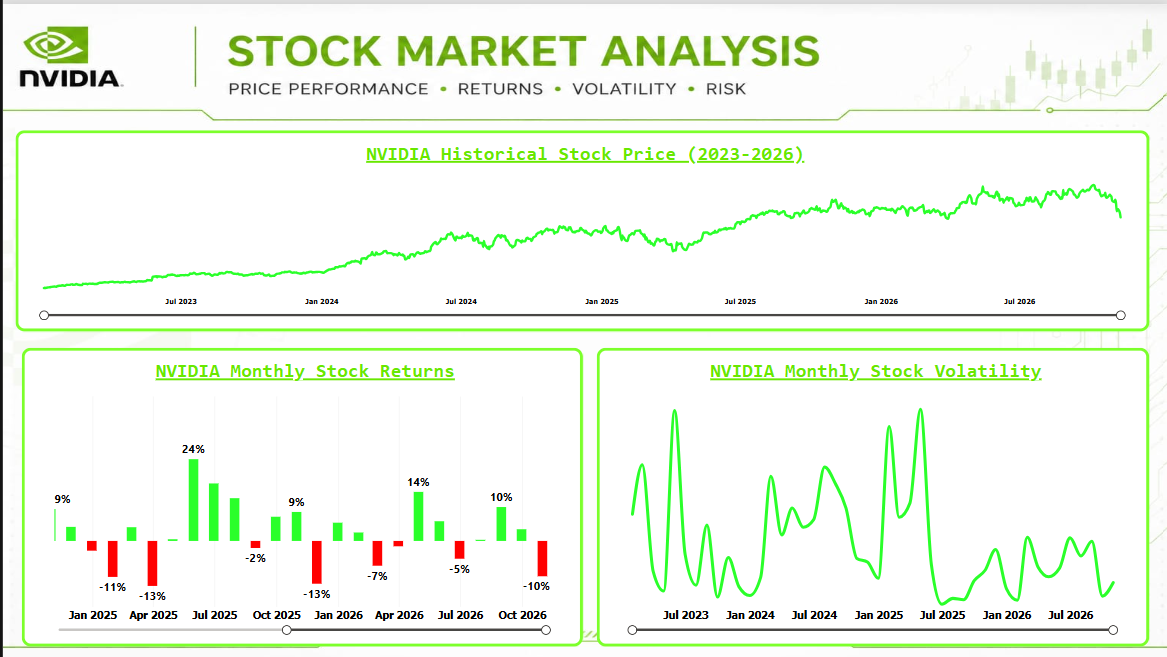

What the dashboard file says about the page in this screenshot:
{"tool":"powerbi","page":{"name":"Stock Market Analysis","canvas":[1920,1080],"ordinal":1},"visuals":[{"type":"lineChart","title":"NVIDIA Historical Stock Price (2023-2026)","fields":{"Category":["NVDA_Stock_Prices_Cleaned.trade_date"],"Y":["Sum(NVDA_Stock_Prices_Cleaned.close_price)"]},"box":[20.6,207.9,1866.9,331.4],"z":0},{"type":"clusteredColumnChart","title":"NVIDIA Monthly Stock Returns","fields":{"Category":["NVDA_Monthly_Performance_Analysis.month_end"],"Y":["_Measures.Monthly Return Display %"]},"box":[30.9,566,924.2,491.9],"z":1000},{"type":"lineChart","title":"NVIDIA Monthly Stock Volatility","fields":{"Category":["NVDA_Monthly_Performance_Analysis.month_end"],"Y":["_Measures.Monthly Volatility %"]},"box":[977.7,566,909.8,491.9],"z":2000}]}

Visuals, with their boxes in screenshot pixels (x1, y1, x2, y2), scaled from the page's 1920x1080 canvas onto the 1167x657 screenshot:
"NVIDIA Historical Stock Price (2023-2026)" lineChart: <box>13,126,1147,328</box>
"NVIDIA Monthly Stock Returns" clusteredColumnChart: <box>19,344,581,644</box>
"NVIDIA Monthly Stock Volatility" lineChart: <box>594,344,1147,644</box>
